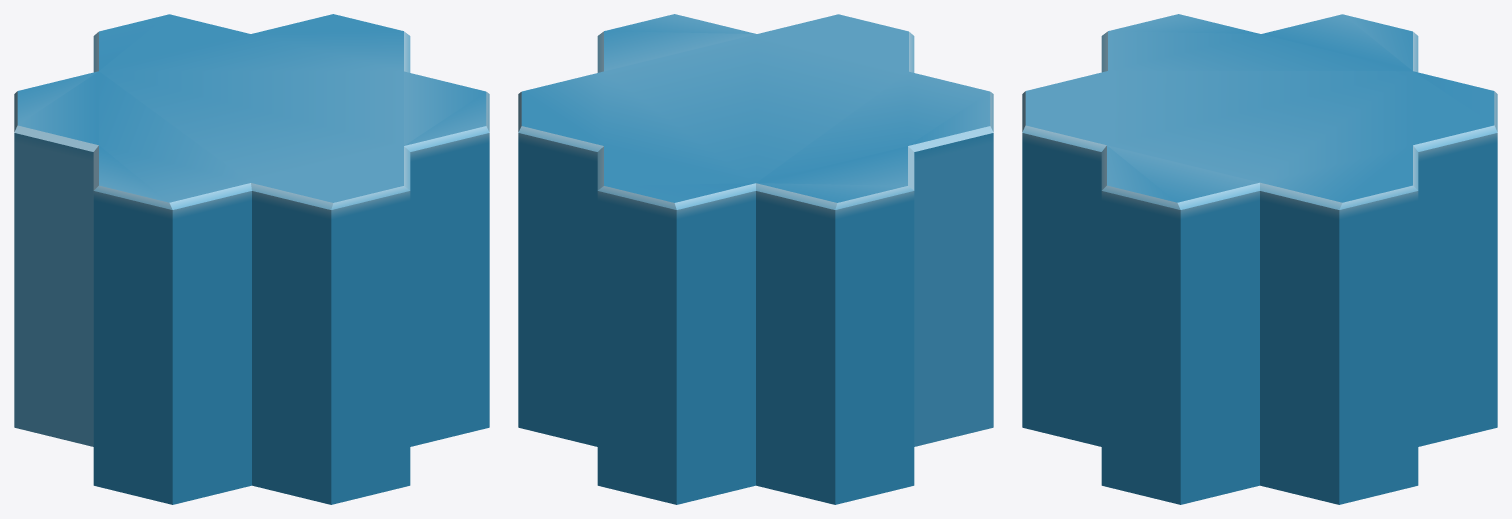
The model's file is WaterLake.fbx.
3 renders of one model, left to right at view 1: azimuth 30°, elevation 25°; view 2: azimuth 150°, elevation 25°; view 3: azimuth 270°, elevation 25°, orthographic.
Visible parts, largest first — view 1: WaterLake_LOD0; view 2: WaterLake_LOD0; view 3: WaterLake_LOD0.
Part boxes in pixels (<box>): WaterLake_LOD0: <box>14,14,489,504</box>; WaterLake_LOD0: <box>518,14,993,504</box>; WaterLake_LOD0: <box>1022,14,1497,504</box>.
Size of what is drawn, in the model's own units: 1250 by 904 by 1299.
